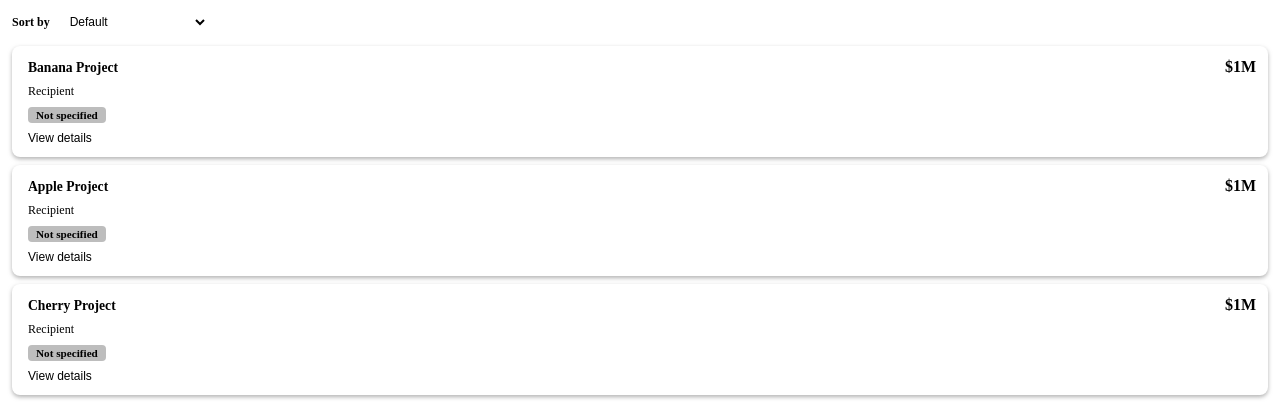
Test: CountryFundingPanelTable › compact card sorting › reverses the order when the direction toggle is clicked
The width and height of the screenshot is (1280, 416).
Select "Title" in the dropdown with class "card-sort-select" at (133, 22), box [58,10,208,34]
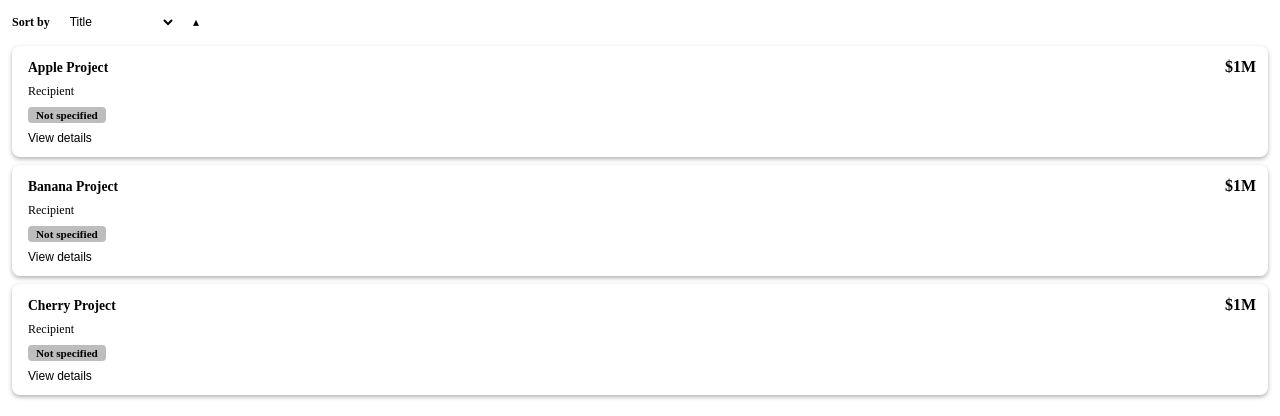
Click the button with class "card-sort-direction" at (196, 22), box [184,10,208,34]
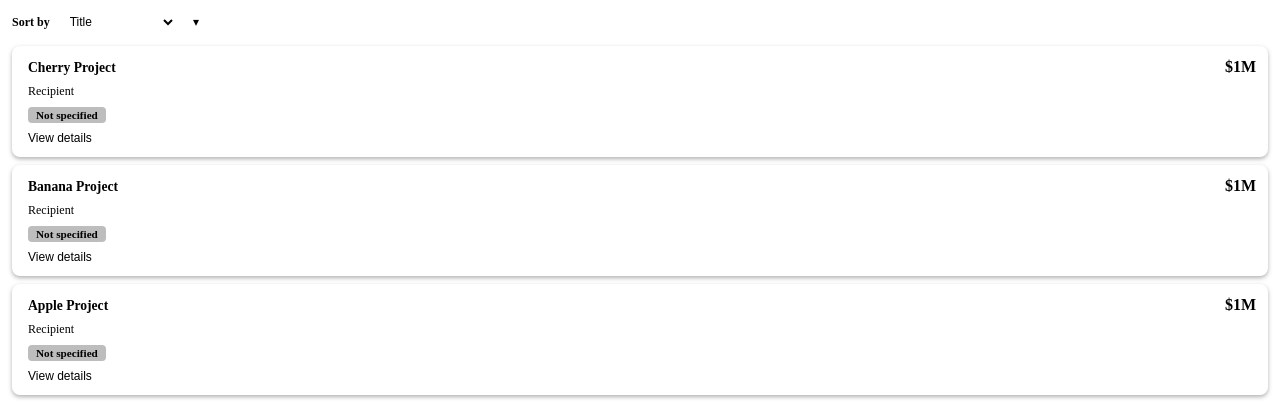
Expected: the elements with class "grant-card-title" read "Cherry Project", "Banana Project", "Apple Project", in this order, [28,60,116,76]; [28,179,118,195]; [28,298,108,314]
